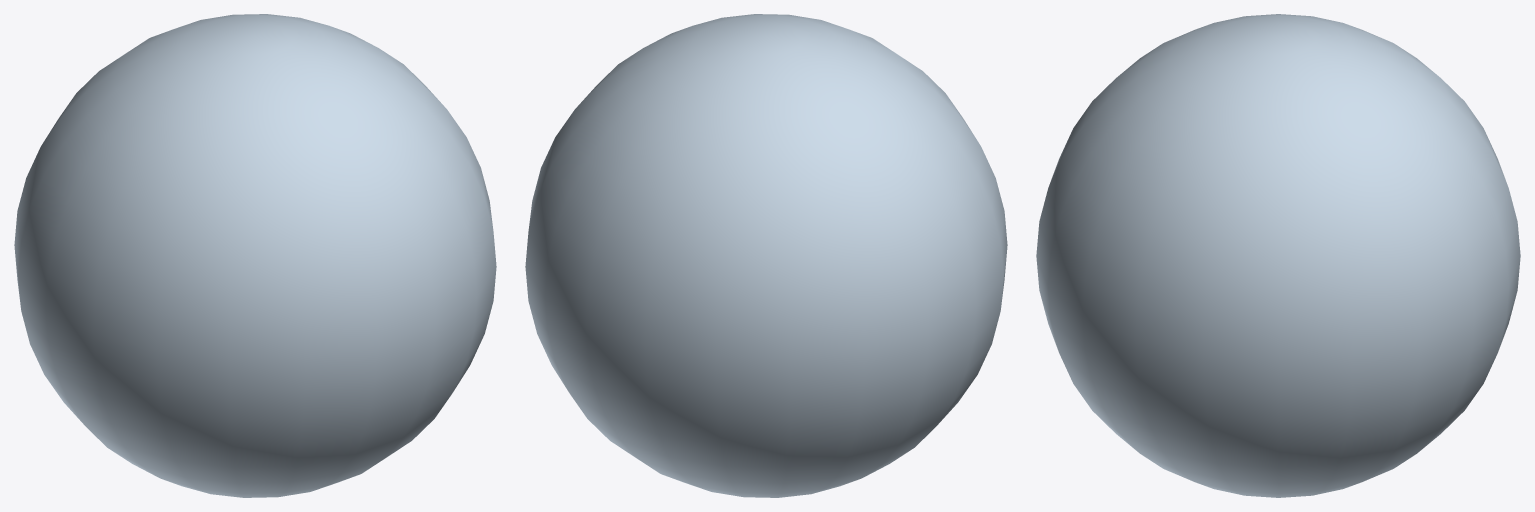
The model's file is Marble.fbx.
3 renders of one model, left to right at view 1: azimuth 30°, elevation 25°; view 2: azimuth 150°, elevation 25°; view 3: azimuth 270°, elevation 25°, orthographic.
Visible parts, largest first — view 1: pSphere1; view 2: pSphere1; view 3: pSphere1.
Part boxes in pixels (<box>): pSphere1: <box>14,14,496,497</box>; pSphere1: <box>525,14,1007,497</box>; pSphere1: <box>1036,14,1520,497</box>.
Size of the model in its own units: 2 by 2 by 2.
